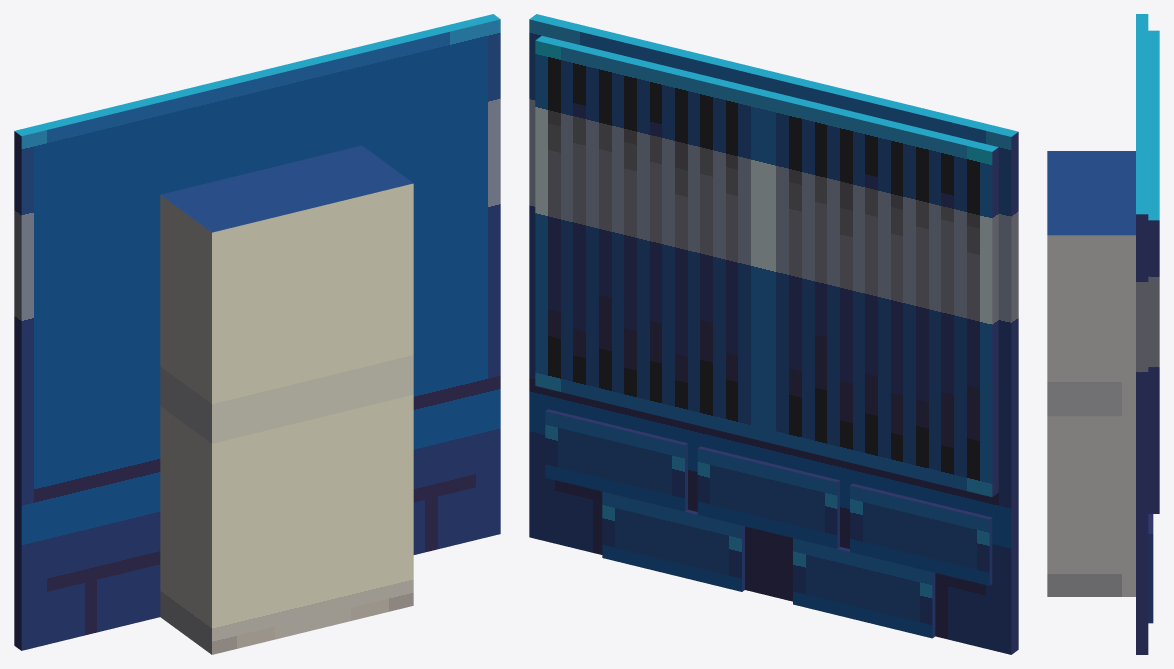
File: df5_radiator_grid.obj
3 renders of one model, left to right at view 1: azimuth 30°, elevation 25°; view 2: azimuth 150°, elevation 25°; view 3: azimuth 270°, elevation 25°, orthographic. The views are drawn at different scales.
Parts seen in each view (by area): view 1: 扇热格栅; view 2: 扇热格栅; view 3: 扇热格栅.
Part boxes in pixels (<box>): 扇热格栅: <box>14,14,500,654</box>; 扇热格栅: <box>529,14,1018,654</box>; 扇热格栅: <box>1047,14,1159,654</box>.
Bounding box in the file's own units: 2.38 × 2.44 × 0.5625.
